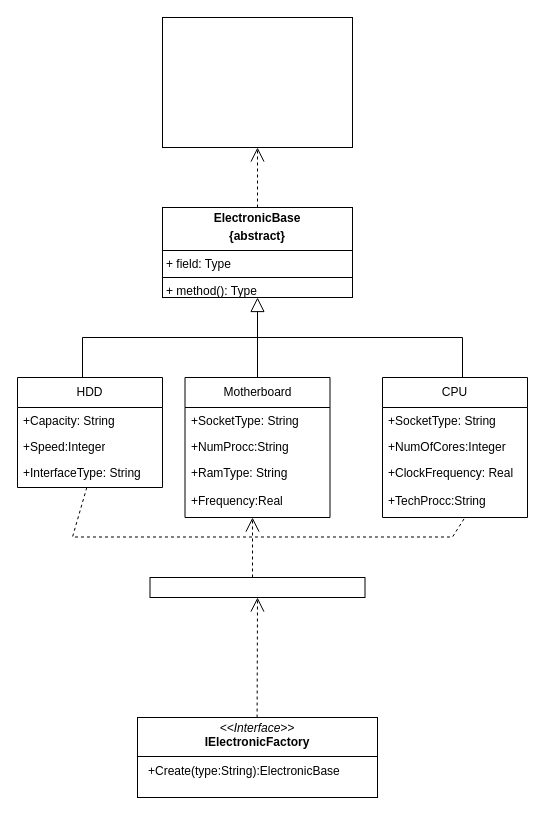
Image size: 545x815. Some labels were removed from this diagram. The shapes that lost their labels are listed below. From the top down, each one's centre as x and y in pixels, then its label:
(x=257, y=82): <<Interface>> IElectronic + Name: String + Number: String +Price: Integer
(x=257, y=587): ElectronicFactoryImplementation + method(): Type
